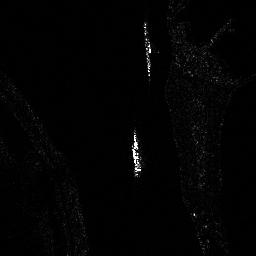ship: (142, 21, 153, 76), (131, 131, 142, 177)
